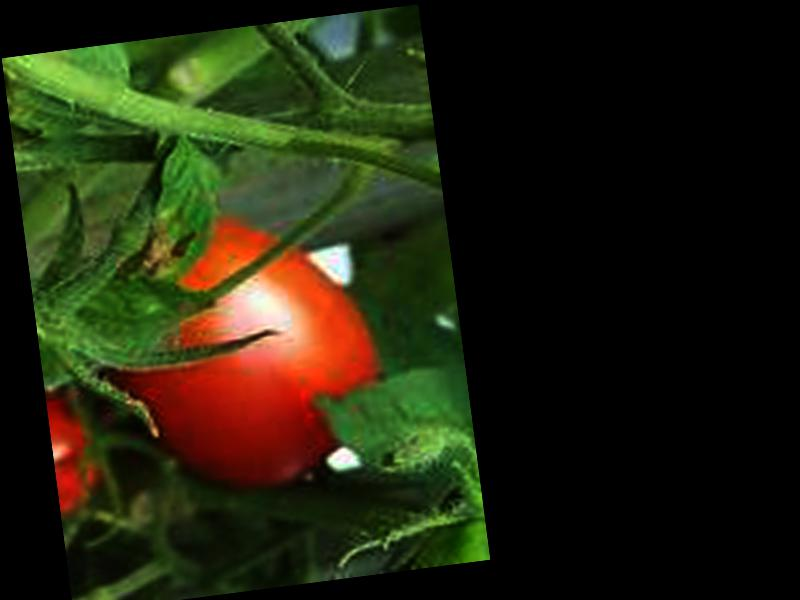Tomato: (105, 205, 394, 502)
